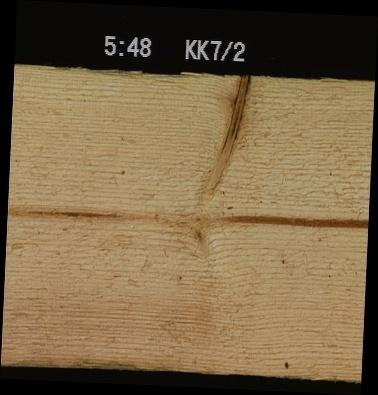dry_knot: (197, 73, 250, 208)
